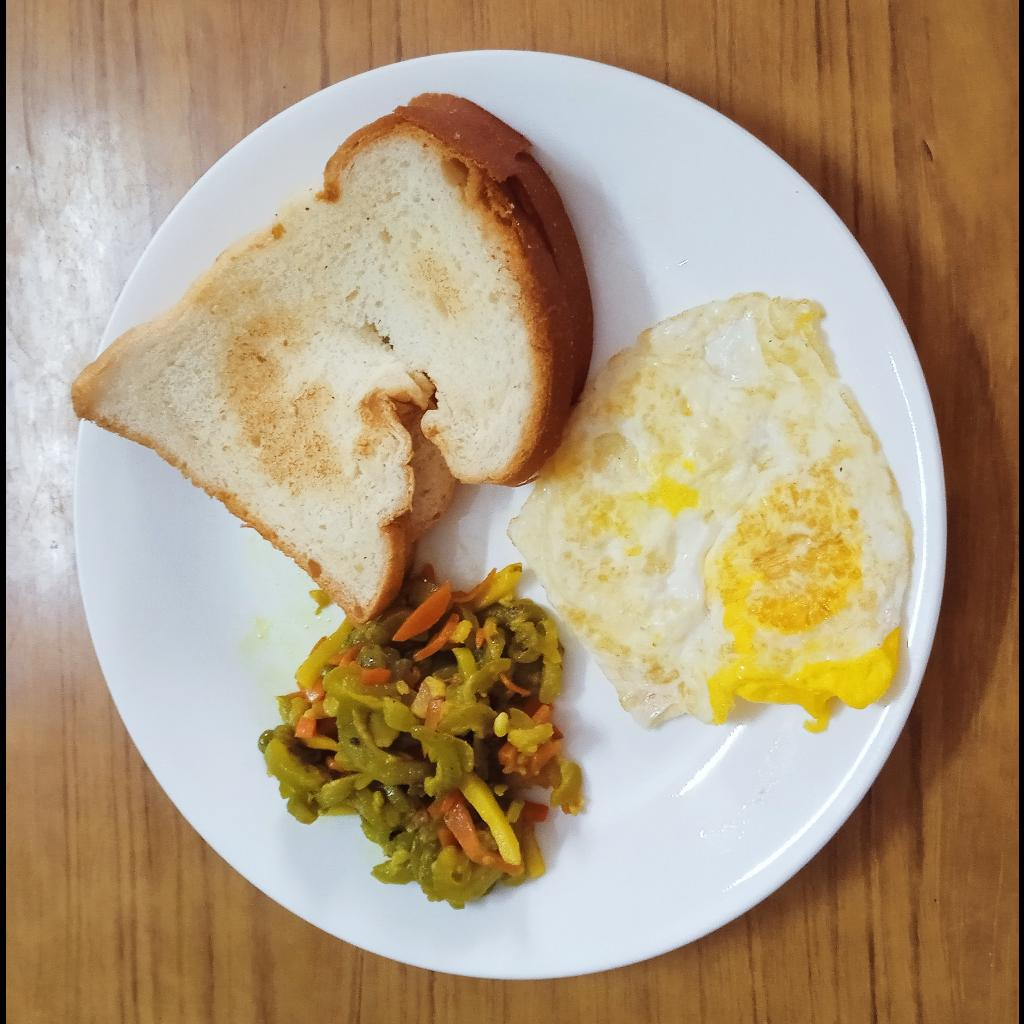bread: (71, 86, 595, 623)
egg-poached: (508, 291, 914, 731)
vegetable: (255, 558, 581, 912)
